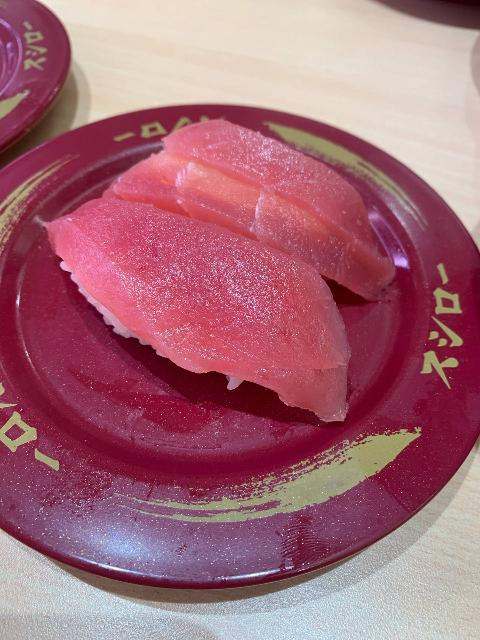janred: (0, 114, 480, 558), (0, 0, 98, 161)
